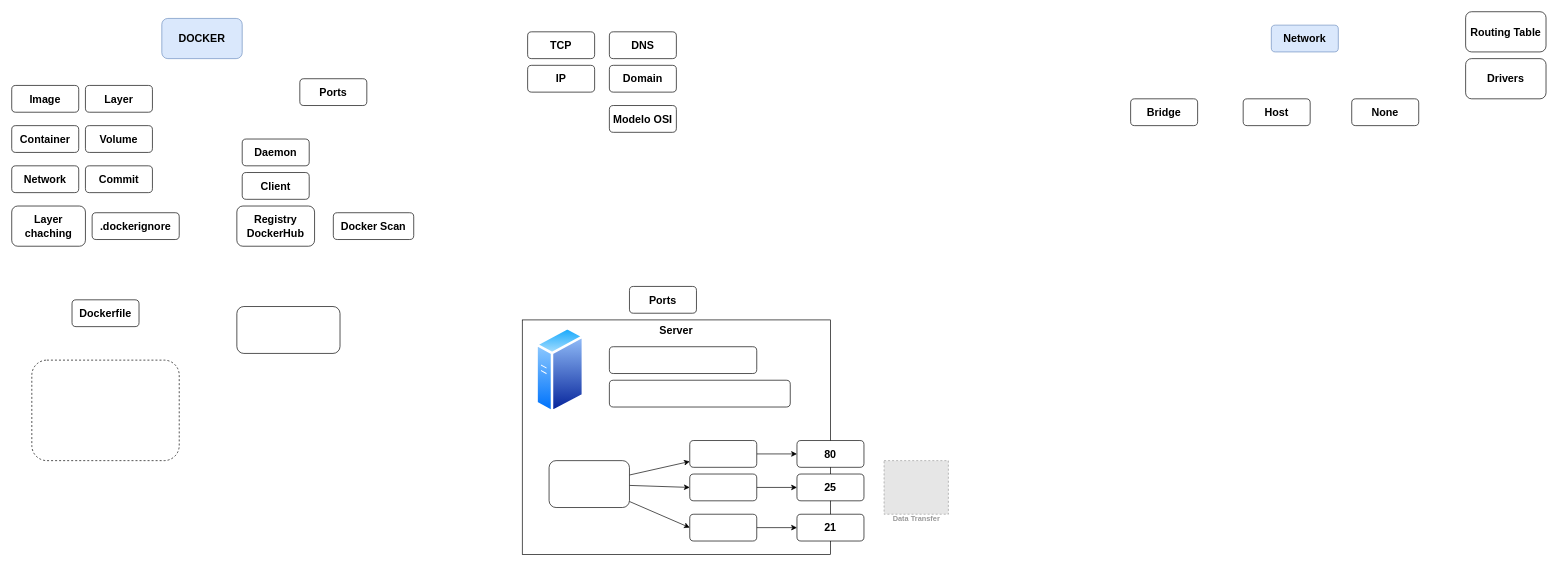
Image size: 1558x566. Some labels were removed from this diagram. Grey dashed boxes stand in for pictures. The shapes that lost their labels are listed below. From the top down, each one's centre as x and y in pixels, then its label:
the point at 288,329: Least privileged user
the point at 683,360: Ports : 2^16 : 0 to 65535
the point at 105,410: Multi-Stage Build <> Build Stage --- Runtime Stage
the point at 699,393: IP : 2^32 : byte.byte.byte.byte
the point at 723,453: WebApp
the point at 588,484: Programs or services
the point at 723,487: Email
the point at 723,527: FTP
